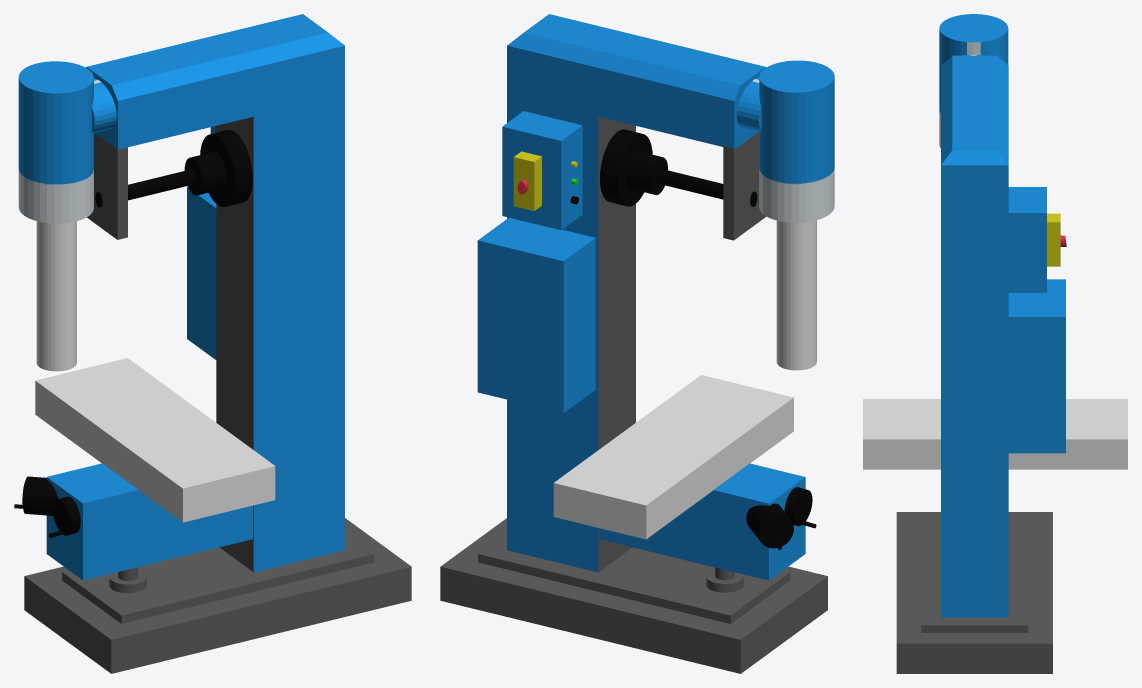
File: PR JSonData.fbx
The picture shows the model from 3 angles, left to right: view 1: azimuth 30°, elevation 25°; view 2: azimuth 150°, elevation 25°; view 3: azimuth 270°, elevation 25°; orthographic projection. The views are drawn at different scales.
Parts seen in each view (by area): view 1: Cube, Куб, Цилиндр; view 2: Cube, Куб, Цилиндр; view 3: Cube, Куб.
Boxes of the visible parts, <box> form: Cube: <box>14,14,411,673</box>; Куб: <box>35,358,275,522</box>; Цилиндр: <box>36,221,76,371</box>; Cube: <box>440,14,834,673</box>; Куб: <box>553,375,793,539</box>; Цилиндр: <box>776,220,816,370</box>; Cube: <box>896,14,1066,673</box>; Куб: <box>863,399,1127,469</box>.
Size of the model in its own units: 2121 by 3339 by 1573.
